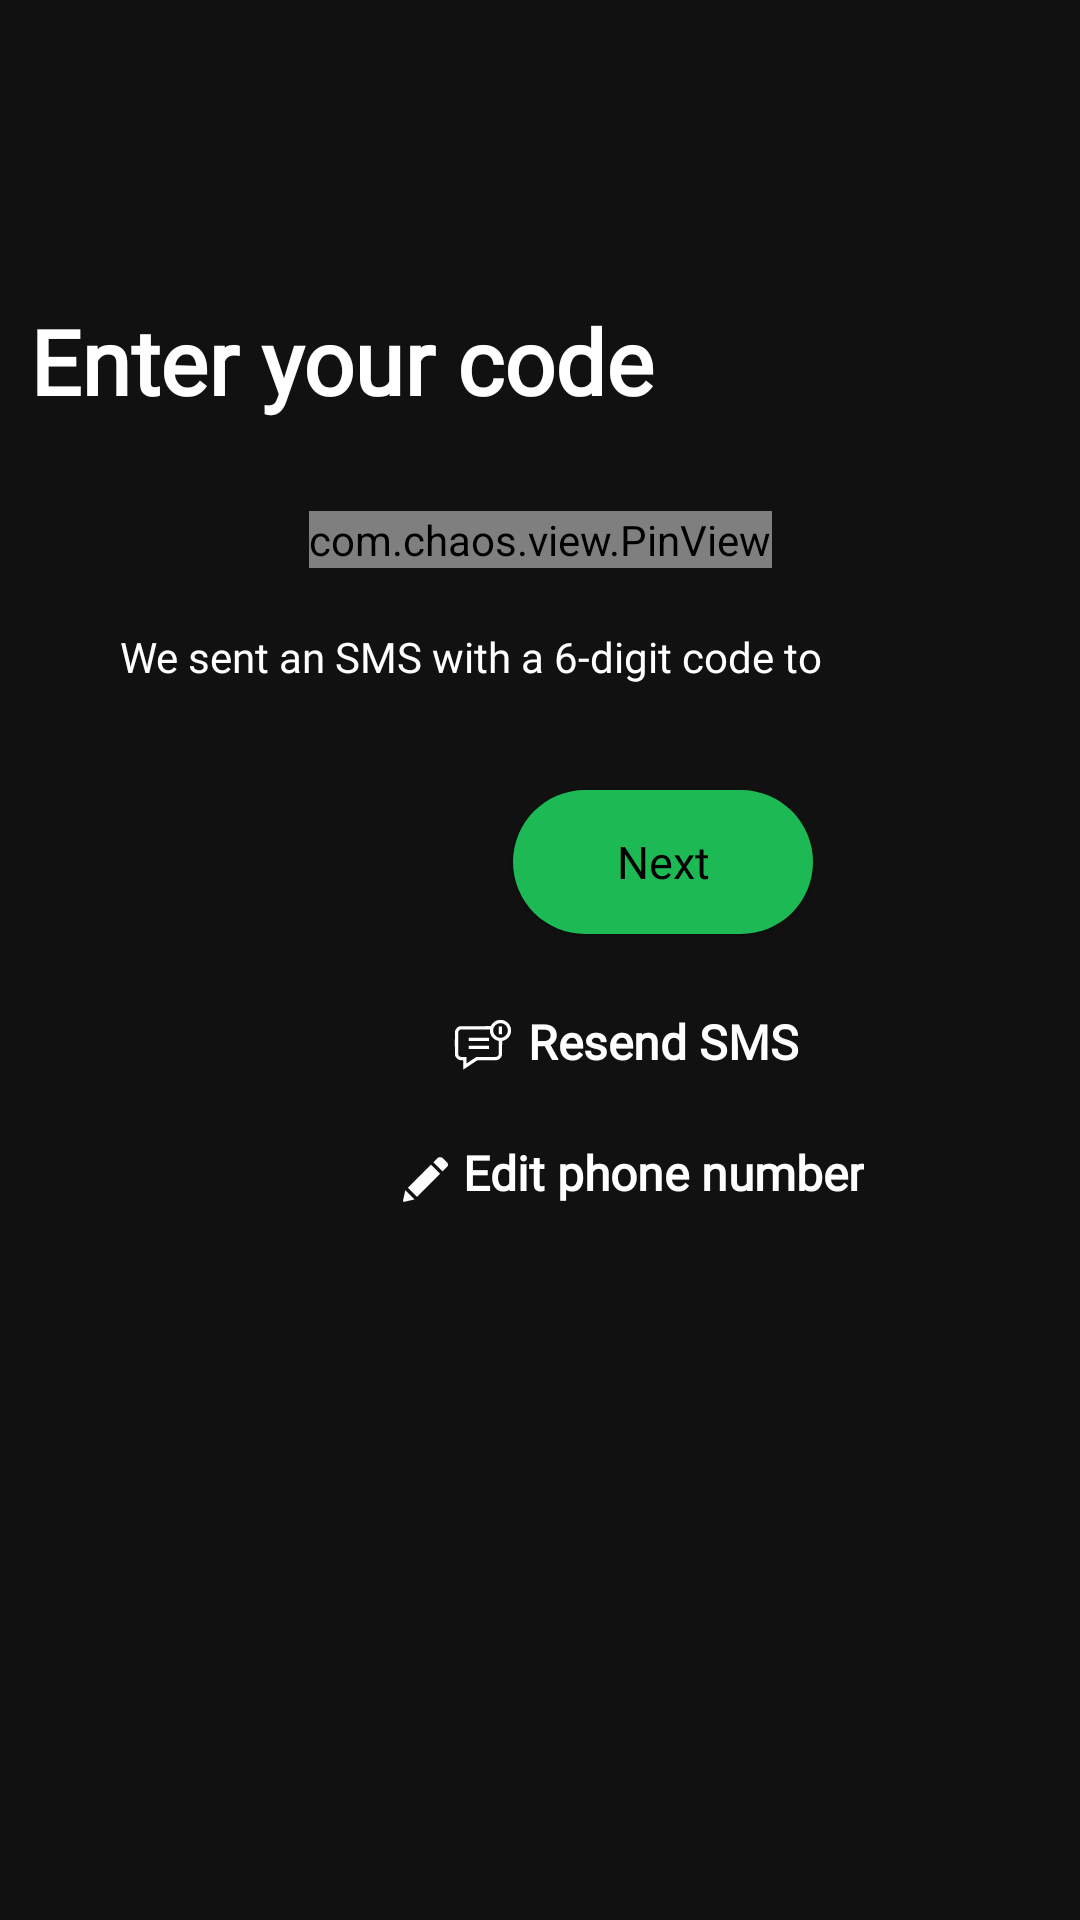

Icon bounding boxes for this 1080x1920 phone screenshot, format (x1, y1, x2, y2):
chat: (454, 1020, 511, 1070)
draw: (403, 1157, 448, 1202)
